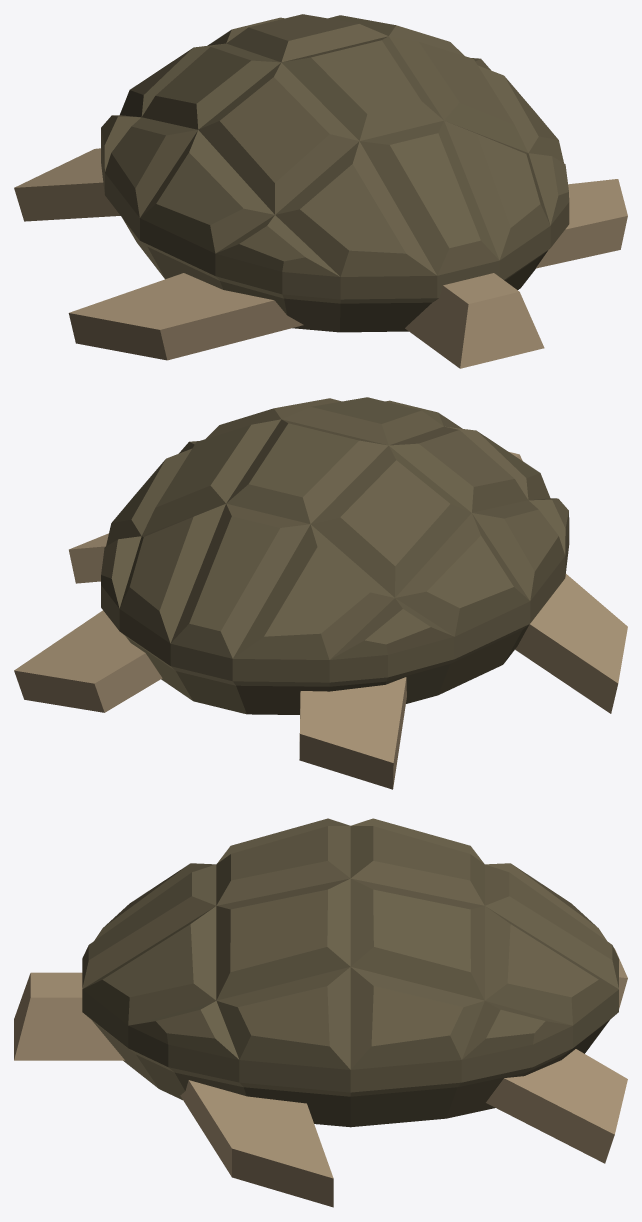
File: Turtle.FBX
3 views of the same model, one above another, from view 1: azimuth 30°, elevation 25°; view 2: azimuth 150°, elevation 25°; view 3: azimuth 270°, elevation 25° (orthographic).
Visible parts, largest first — view 1: Box001; view 2: Box001; view 3: Box001.
Boxes of the visible parts, bbox=[...] form: Box001: bbox=[14, 14, 627, 368]; Box001: bbox=[14, 397, 627, 789]; Box001: bbox=[14, 818, 627, 1207].
Bounding box in the file's own units: 1.88 × 0.7556 × 1.81.
